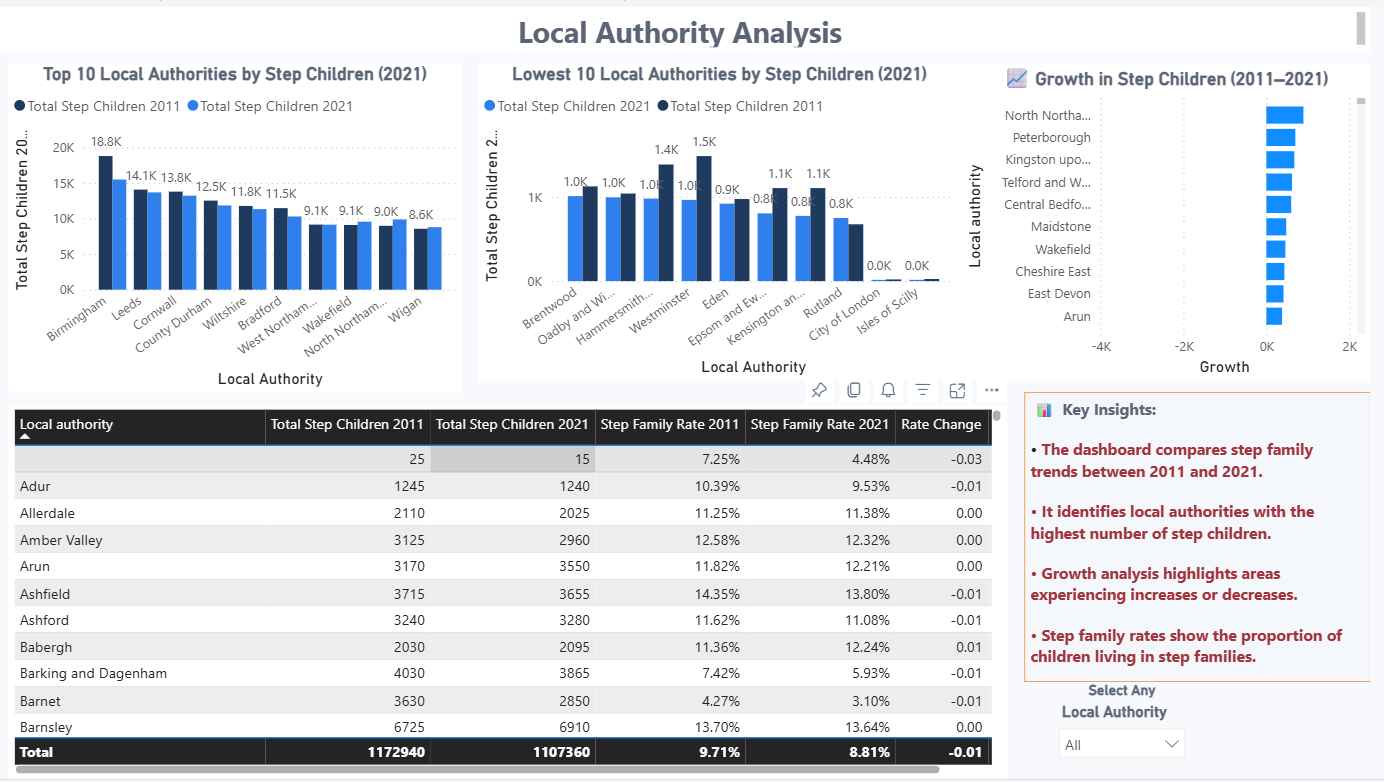

The page's visual inventory and layout, read from the dashboard file:
{"tool":"powerbi","page":{"name":"Local Authority Analysis","canvas":[1280,720],"ordinal":1},"visuals":[{"type":"clusteredColumnChart","title":"Top 10 Local Authorities by Step Children (2021)","fields":{"Category":["Local Authority Step Family Trend.Local Authority"],"Y":["Dependent Children Analysis.Total Step Children 2011","Dependent Children Analysis.Total Step Children 2021"]},"box":[0,52.6,432.9,306.9],"z":0},{"type":"clusteredColumnChart","title":"Lowest 10 Local Authorities by Step Children (2021)","fields":{"Category":["Local Authority Step Family Trend.Local Authority"],"Y":["Dependent Children Analysis.Total Step Children 2021","Dependent Children Analysis.Total Step Children 2011"]},"box":[447.7,52.1,450,307.9],"z":1000},{"type":"tableEx","fields":{"Values":["Local Authority Step Family Data.Local authority","Dependent Children Analysis.Total Step Children 2011","Dependent Children Analysis.Total Step Children 2021","Dependent Children Analysis.Step Family Rate 2011","Dependent Children Analysis.Step Family Rate 2021","Dependent Children Analysis.Rate Change","Dependent Children Analysis.Growth"]},"box":[0,370.5,941.6,349.7],"z":2000},{"type":"slicer","title":"Select Any","fields":{"Values":["Local Authority Step Family Data.Local authority"]},"box":[979.5,629.8,138.2,89.3],"z":3000},{"type":"textbox","box":[957.5,359.5,322.8,270.2],"z":4000},{"type":"clusteredBarChart","title":"📈 Growth in Step Children (2011–2021)","fields":{"Category":["Local Authority Step Family Data.Local authority"],"Y":["Dependent Children Analysis.Growth"]},"box":[897.6,52.6,382.7,295.9],"z":5000},{"type":"textbox","box":[0,0,1280.3,42.8],"z":6000}]}

Visuals, with their boxes in screenshot pixels (x1, y1, x2, y2), scaled from the page's 1280x720 canvas onto the 1384x782 screenshot:
"Top 10 Local Authorities by Step Children (2021)" clusteredColumnChart: left=0, top=57, right=468, bottom=390
"Lowest 10 Local Authorities by Step Children (2021)" clusteredColumnChart: left=484, top=57, right=971, bottom=391
tableEx - Local Authority Step Family Data.Local authority x Dependent Children Analysis.Total Step Children 2011: left=0, top=402, right=1018, bottom=781
"Select Any" slicer: left=1059, top=684, right=1209, bottom=781
textbox: left=1035, top=390, right=1383, bottom=684
"📈 Growth in Step Children (2011–2021)" clusteredBarChart: left=971, top=57, right=1383, bottom=379
textbox: left=0, top=0, right=1383, bottom=46
